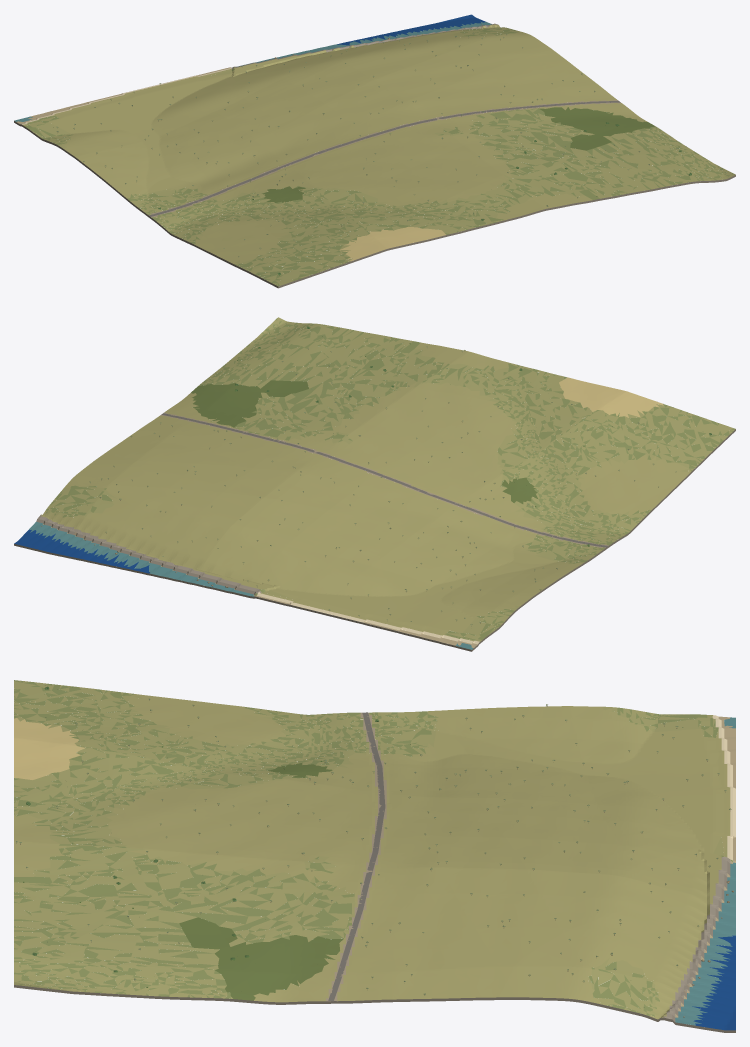
The model's file is parca_+3_+2-yakin.glb.
The picture shows the model from 3 angles, top to bottom: view 1: azimuth 30°, elevation 25°; view 2: azimuth 150°, elevation 25°; view 3: azimuth 270°, elevation 25°; orthographic projection. The views are drawn at different scales.
Visible parts, largest first — view 1: parca_+3_+2_arazi, parca_+3_+2_yollar, parca_+3_+2_bitkiler; view 2: parca_+3_+2_arazi, parca_+3_+2_yollar, parca_+3_+2_bitkiler; view 3: parca_+3_+2_arazi, parca_+3_+2_yollar, parca_+3_+2_bitkiler.
Part boxes in pixels (x1=…): parca_+3_+2_arazi: x1=14, y1=14, x2=735, y2=288; parca_+3_+2_yollar: x1=149, y1=101, x2=620, y2=216; parca_+3_+2_bitkiler: x1=53, y1=32, x2=691, y2=275; parca_+3_+2_arazi: x1=14, y1=317, x2=735, y2=651; parca_+3_+2_yollar: x1=161, y1=413, x2=607, y2=547; parca_+3_+2_bitkiler: x1=76, y1=326, x2=711, y2=625; parca_+3_+2_arazi: x1=14, y1=680, x2=735, y2=1032; parca_+3_+2_yollar: x1=328, y1=712, x2=385, y2=1001; parca_+3_+2_bitkiler: x1=16, y1=686, x2=731, y2=1007.
Size of the model in its own units: 1001 by 102 by 1000.
